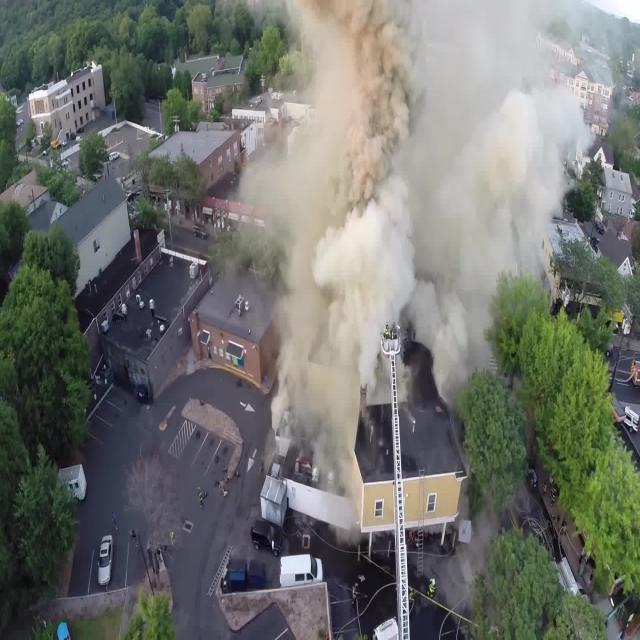smoke: (306, 16, 524, 365)
